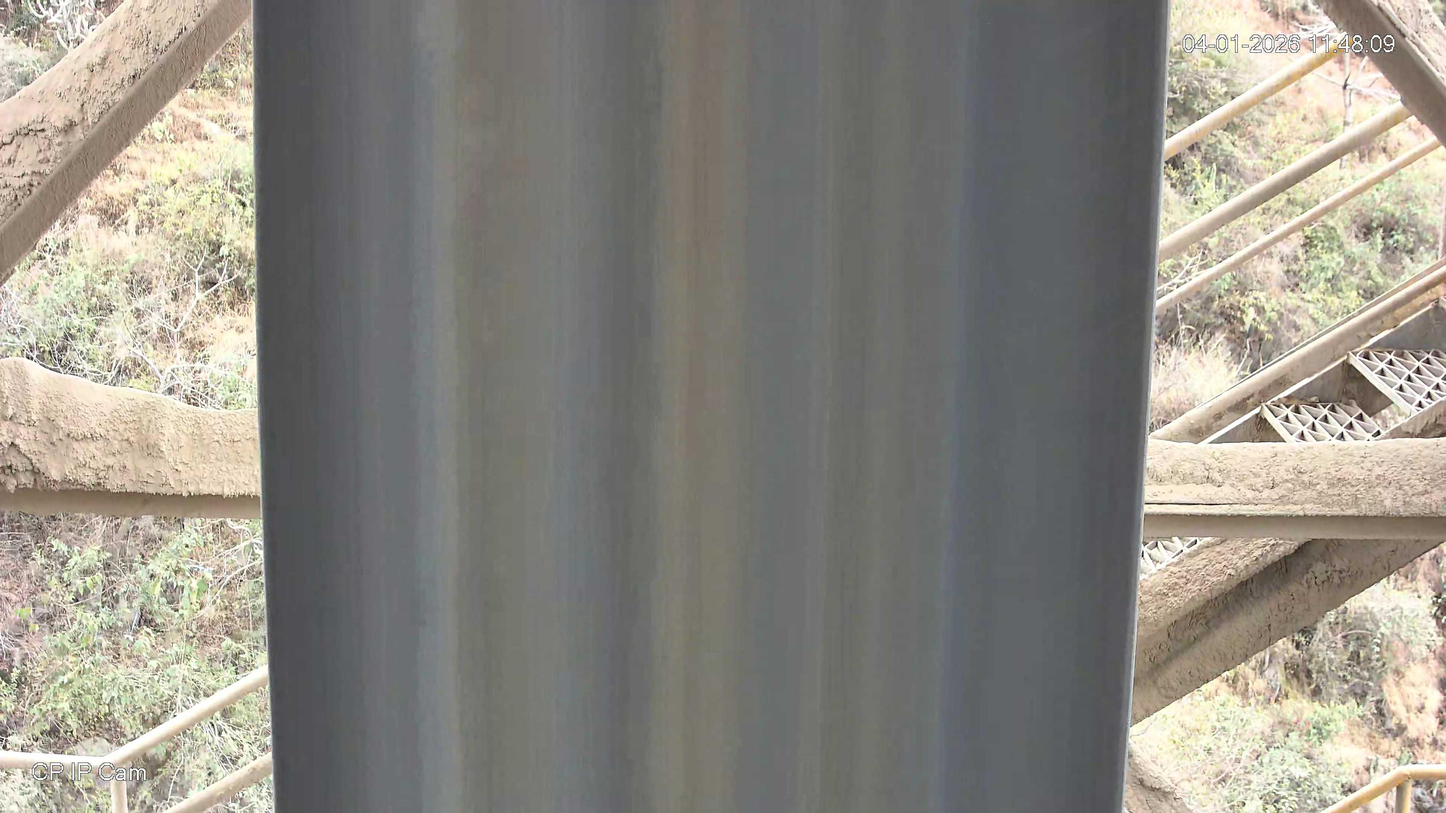belt_roi: (251, 0, 1167, 813)
